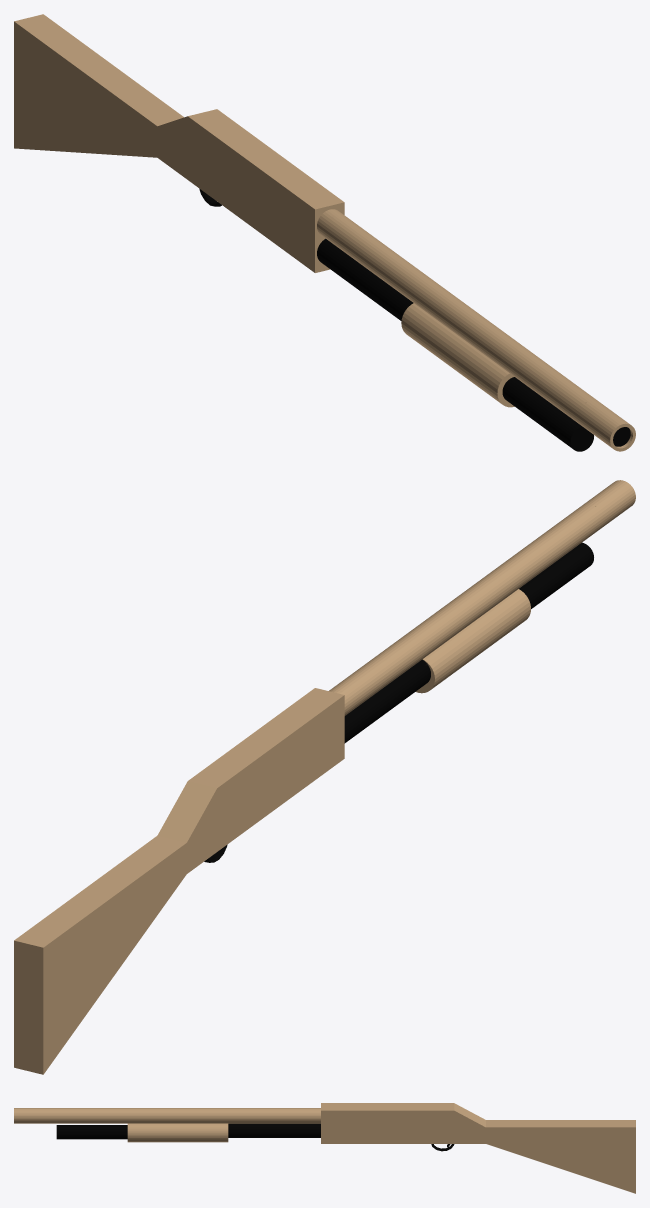
The model's file is Shotgun.fbx.
3 views of the same model, one above another, from view 1: azimuth 30°, elevation 25°; view 2: azimuth 150°, elevation 25°; view 3: azimuth 270°, elevation 25° (orthographic). The views are drawn at different scales.
Visible parts, largest first — view 1: Shotgun; view 2: Shotgun; view 3: Shotgun.
Part boxes in pixels (x1,y1,x2,y2): Shotgun: (14,14,635,451); Shotgun: (14,480,635,1074); Shotgun: (14,1103,635,1193).
Size of the model in its own units: 2.6 by 11.77 by 79.55.
Materials: 1 (1 with a texture image).
